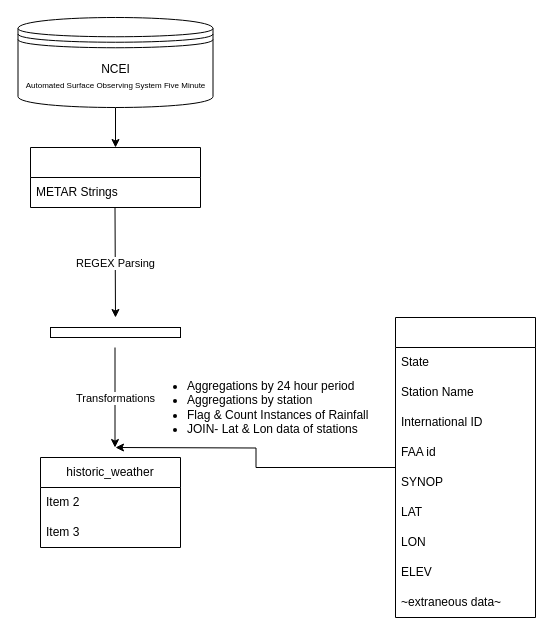
This 553x635 diagram has some shape labels left out. Each missing label, with the box of its shape:
asos-5min-KRDU-202608.DAT: (30, 146, 200, 208)
stations.txt: (394, 316, 536, 618)
